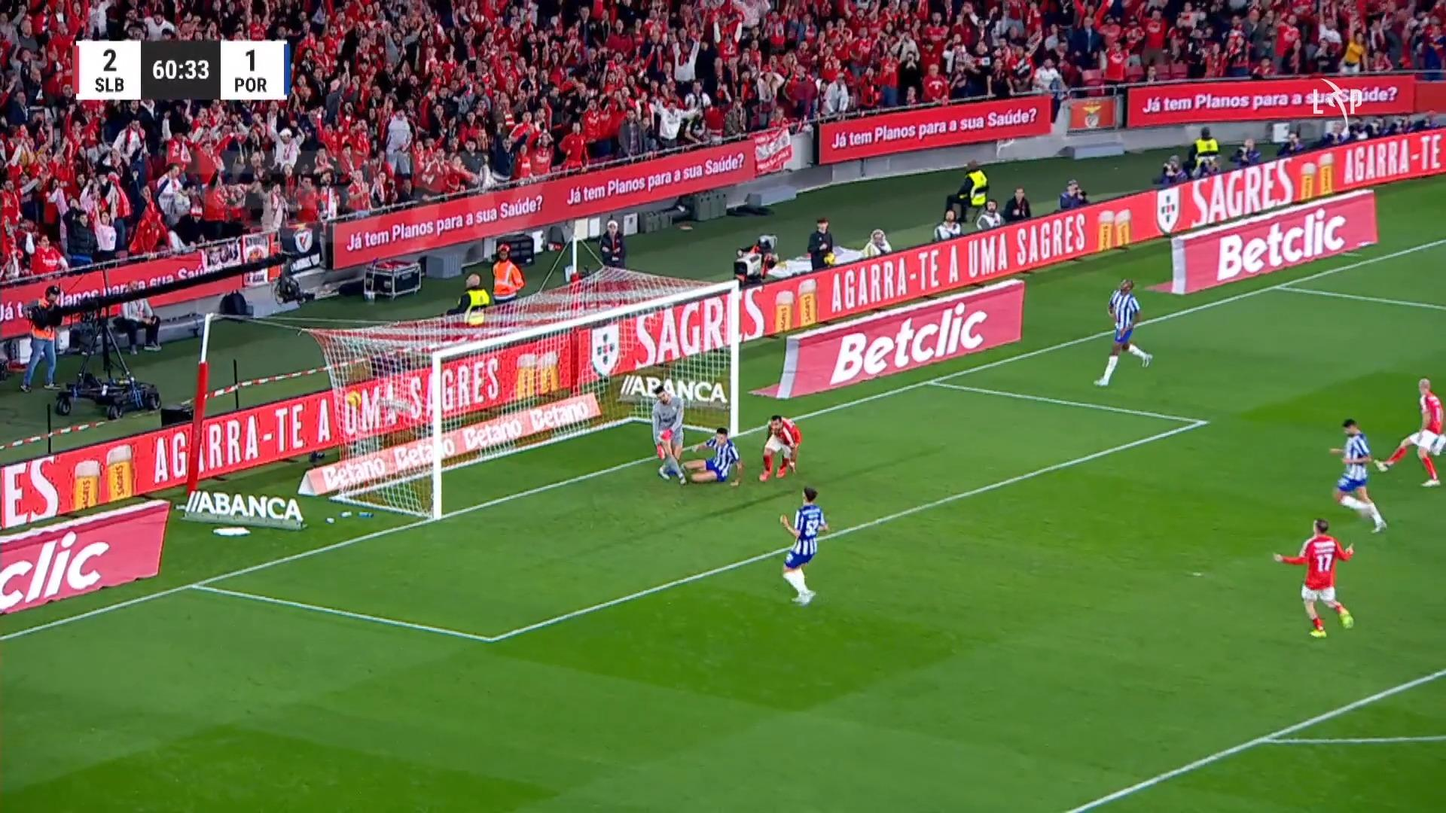goalkeeper: (650, 380, 687, 485)
player: (1271, 517, 1355, 638), (1373, 376, 1444, 487), (1328, 417, 1387, 534), (1094, 278, 1153, 387), (778, 486, 828, 605), (679, 425, 743, 488), (758, 413, 801, 481)
